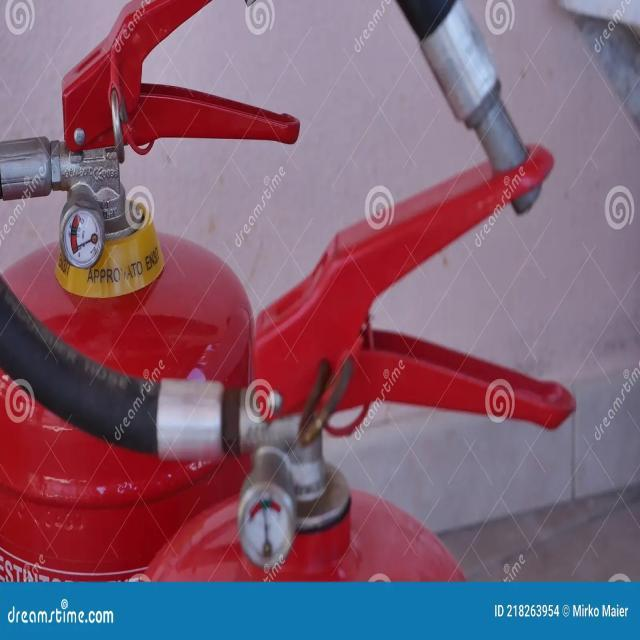pressure gauge: (238, 445, 297, 572), (60, 198, 104, 269)
